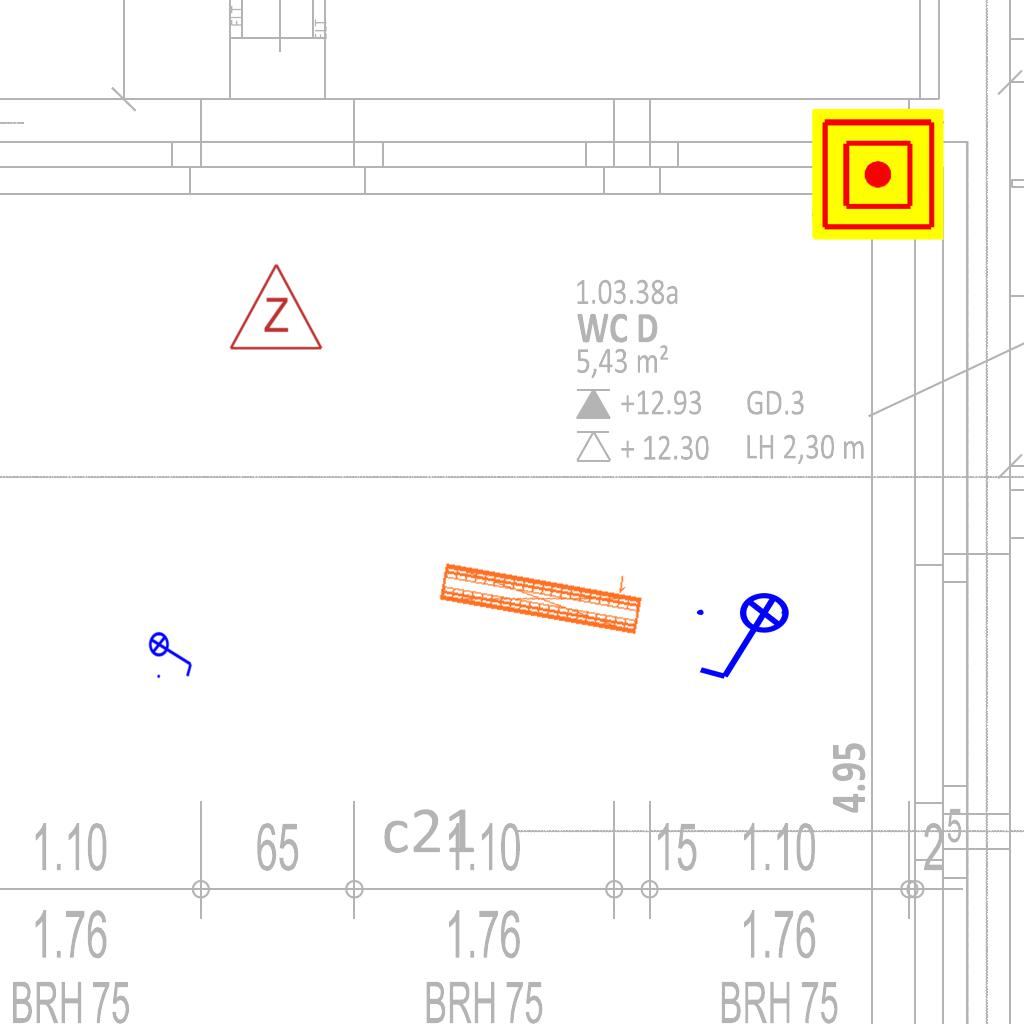Ausschalter_beleuchtet: (691, 591, 803, 687), (148, 625, 196, 681)
Buero_Pendelleuchten_LED: (434, 539, 650, 640)
NAM-Nichtautomatischer_Melder: (812, 108, 944, 240)
Zimmersignalleuchte: (226, 257, 324, 357)
